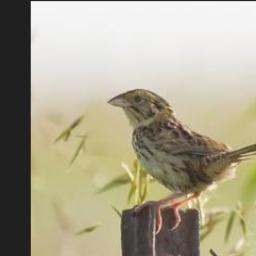Sparrow: (105, 87, 256, 234)
